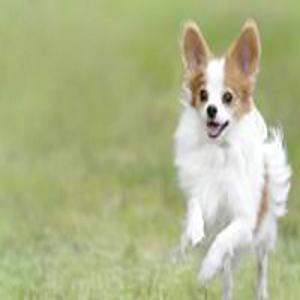yell: (174, 19, 292, 300)
